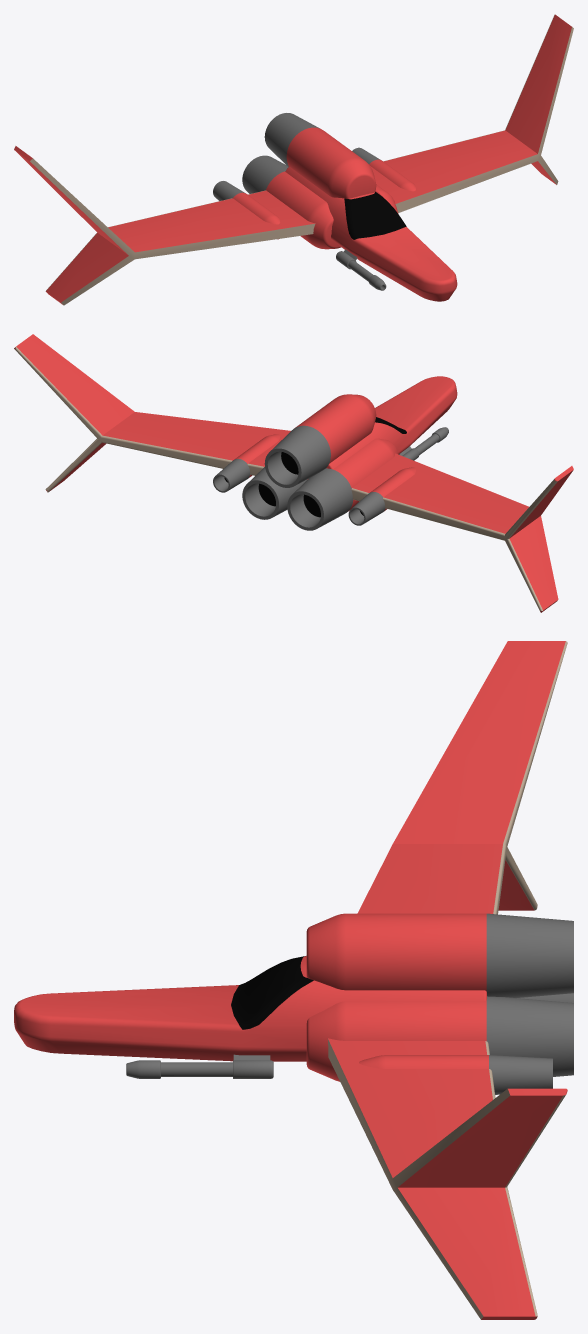
The model's file is shipig.fbx.
3 renders of one model, top to bottom at view 1: azimuth 30°, elevation 25°; view 2: azimuth 150°, elevation 25°; view 3: azimuth 270°, elevation 25°, orthographic. The views are drawn at different scales.
Parts seen in each view (by area): view 1: body, ThrusterLeft, ThrusterRight, thrusterFarRight, thrusterFarLeft, guns; view 2: body, ThrusterLeft, ThrusterRight, ThrusterTop, thrusterFarRight, thrusterFarLeft, guns; view 3: body, ThrusterLeft, ThrusterTop, thrusterFarLeft, guns.
Part boxes in pixels (x1,y1,x2,y2): body: [14, 14, 573, 305]; ThrusterLeft: [264, 113, 376, 198]; ThrusterRight: [242, 155, 340, 249]; thrusterFarRight: [213, 181, 280, 239]; thrusterFarLeft: [352, 147, 415, 191]; guns: [336, 249, 386, 290]; body: [14, 334, 573, 612]; ThrusterLeft: [264, 394, 376, 487]; ThrusterRight: [287, 438, 397, 530]; ThrusterTop: [242, 467, 307, 519]; thrusterFarRight: [348, 467, 415, 525]; thrusterFarLeft: [213, 434, 280, 492]; guns: [399, 427, 448, 460]; body: [14, 641, 567, 1319]; ThrusterLeft: [306, 913, 573, 997]; ThrusterTop: [306, 996, 573, 1081]; thrusterFarLeft: [359, 1055, 552, 1094]; guns: [126, 1054, 273, 1078].
Size of the model in its own units: 25.04 by 13.12 by 6.47.
